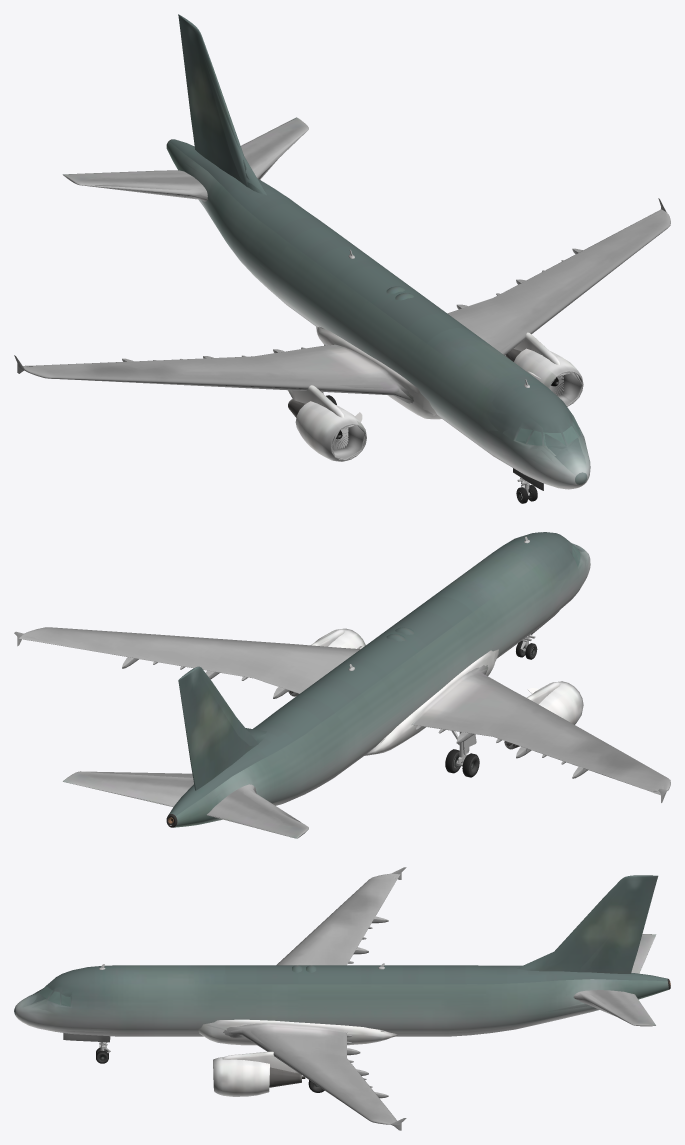
3 views of the same model, one above another, from view 1: azimuth 30°, elevation 25°; view 2: azimuth 150°, elevation 25°; view 3: azimuth 270°, elevation 25° (orthographic). The views are drawn at different scales.
Parts seen in each view (by area): view 1: kit0, kit1, far; view 2: kit0, kit1, far; view 3: kit0, kit1, far.
Boxes of the visible parts, x1=… form: kit0: x1=14, y1=14, x2=670, y2=503; kit1: x1=23, y1=14, x2=670, y2=500; far: x1=16, y1=35, x2=666, y2=488; kit0: x1=14, y1=532, x2=670, y2=838; kit1: x1=16, y1=537, x2=663, y2=838; far: x1=17, y1=549, x2=666, y2=838; kit0: x1=14, y1=867, x2=670, y2=1130; kit1: x1=22, y1=867, x2=670, y2=1128; far: x1=30, y1=871, x2=654, y2=1129.
Size of the model in its own units: 25.28 by 8.73 by 28.
1 material, 1 textured.
